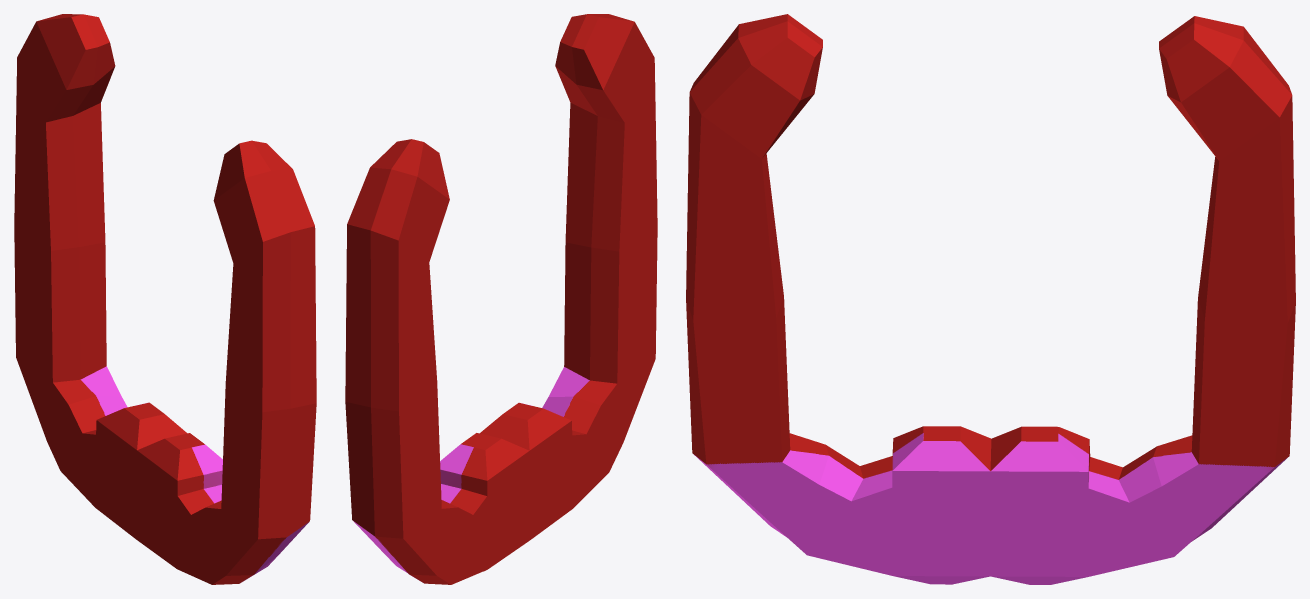
File: RedShip22.fbx
The picture shows the model from 3 angles, left to right: view 1: azimuth 30°, elevation 25°; view 2: azimuth 150°, elevation 25°; view 3: azimuth 270°, elevation 25°; orthographic projection. The views are drawn at different scales.
Parts seen in each view (by area): view 1: Cube; view 2: Cube; view 3: Cube.
Part boxes in pixels (x1,y1,x2,y2): Cube: [14, 14, 316, 584]; Cube: [345, 14, 657, 584]; Cube: [686, 14, 1295, 584].
Bounding box in the file's own units: 88.07 × 632 × 622.
1 material, 1 textured.
